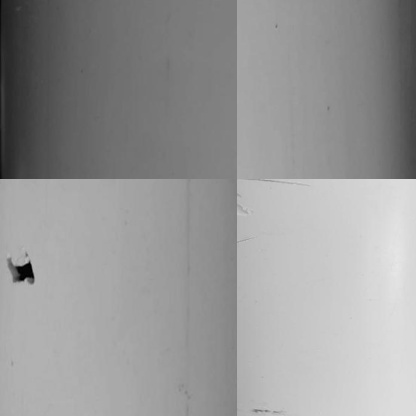kongdong: (4, 252, 42, 289)
sunshang: (233, 188, 249, 214)
